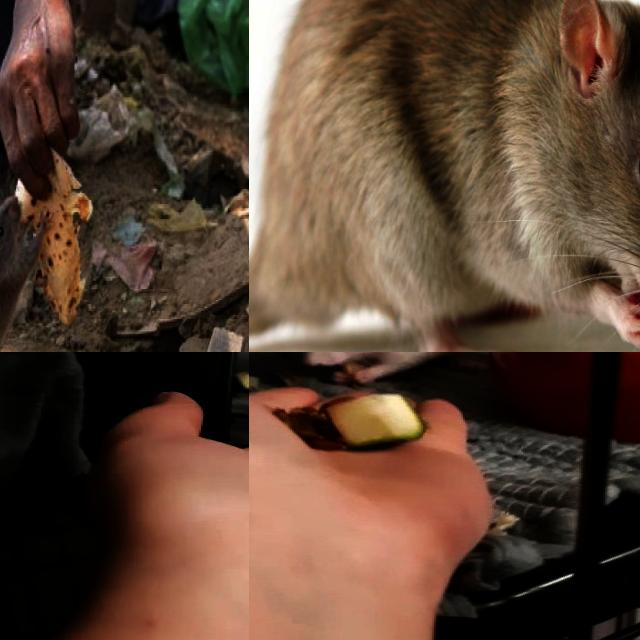rat: (278, 0, 640, 325), (295, 352, 508, 385), (0, 197, 44, 352)
